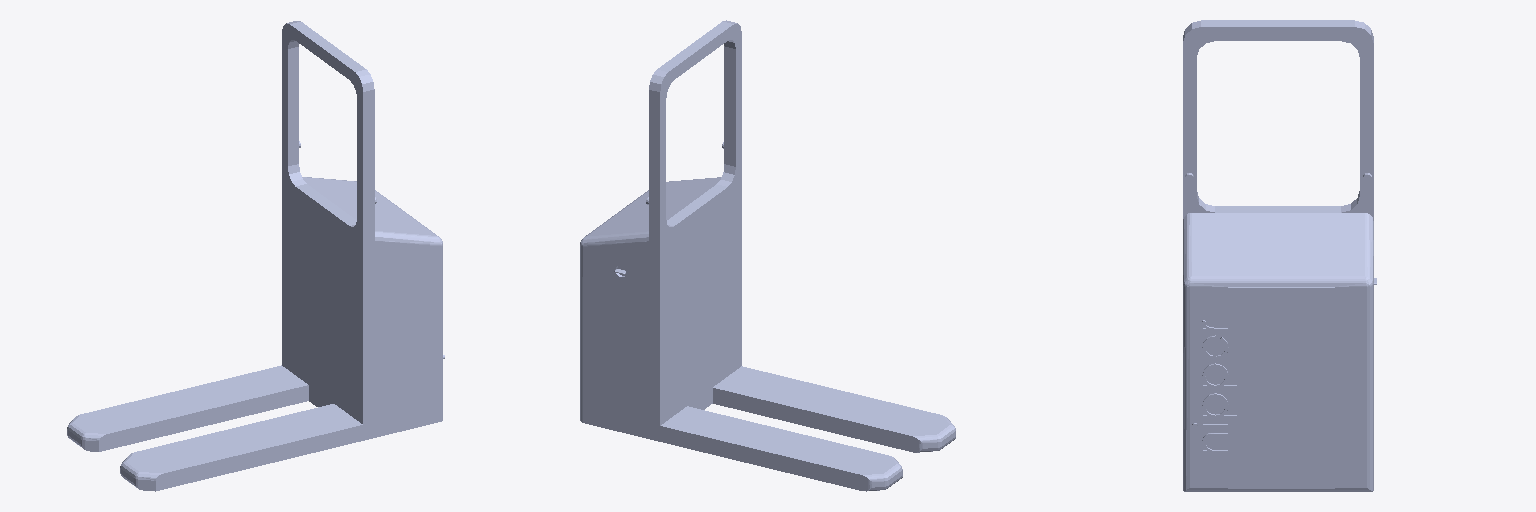
The robot description file, URDF, robot "nipper_sarthak_gazebo_axis_correction":
<?xml version="1.0" encoding="utf-8"?>
<!-- This URDF was automatically created by SolidWorks to URDF Exporter! Originally created by Stephen Brawner (brawner@gmail.com) 
     Commit Version: 1.6.0-4-g7f85cfe  Build Version: 1.6.7995.38578
     For more information, please see http://wiki.ros.org/sw_urdf_exporter -->
<robot
  name="nipper_sarthak_gazebo_axis_correction">
  <link
    name="base_link">
    <inertial>
      <origin
        xyz="0.079628 0.40334 1.2709"
        rpy="0 0 0" />
      <mass
        value="476.25" />
      <inertia
        ixx="93.08"
        ixy="13.525"
        ixz="-0.12696"
        iyy="72.901"
        iyz="0.20512"
        izz="108.83" />
    </inertial>
    <visual>
      <origin
        xyz="0 0 0"
        rpy="0 0 0" />
      <geometry>
        <mesh
          filename="package://nipper_sarthak_gazebo_axis_correction/meshes/base_link.STL" />
      </geometry>
      <material
        name="">
        <color
          rgba="0.79216 0.81961 0.93333 1" />
      </material>
    </visual>
    <collision>
      <origin
        xyz="0 0 0"
        rpy="0 0 0" />
      <geometry>
        <mesh
          filename="package://nipper_sarthak_gazebo_axis_correction/meshes/base_link.STL" />
      </geometry>
    </collision>
  </link>
</robot>

--- Render facts (derived) ---
3 views of the same robot in one strip: view 1: azimuth 30°, elevation 25°; view 2: azimuth 150°, elevation 25°; view 3: azimuth 270°, elevation 25° (orthographic).
Robot: nipper_sarthak_gazebo_axis_correction — 1 links, 0 joints (none); root link base_link; default pose: every joint at zero.
Links seen in each view (by area): view 1: base_link; view 2: base_link; view 3: base_link.
Link boxes in pixels (x1,y1,x2,y2): base_link: (67, 21, 444, 491); base_link: (580, 20, 955, 491); base_link: (1183, 20, 1376, 491).
Size in the robot's own frame: 1.8 by 0.8425 by 2.04 metres.
Meshes: 1 distinct files referenced, 1 mesh visuals loaded (1 binary STL).
